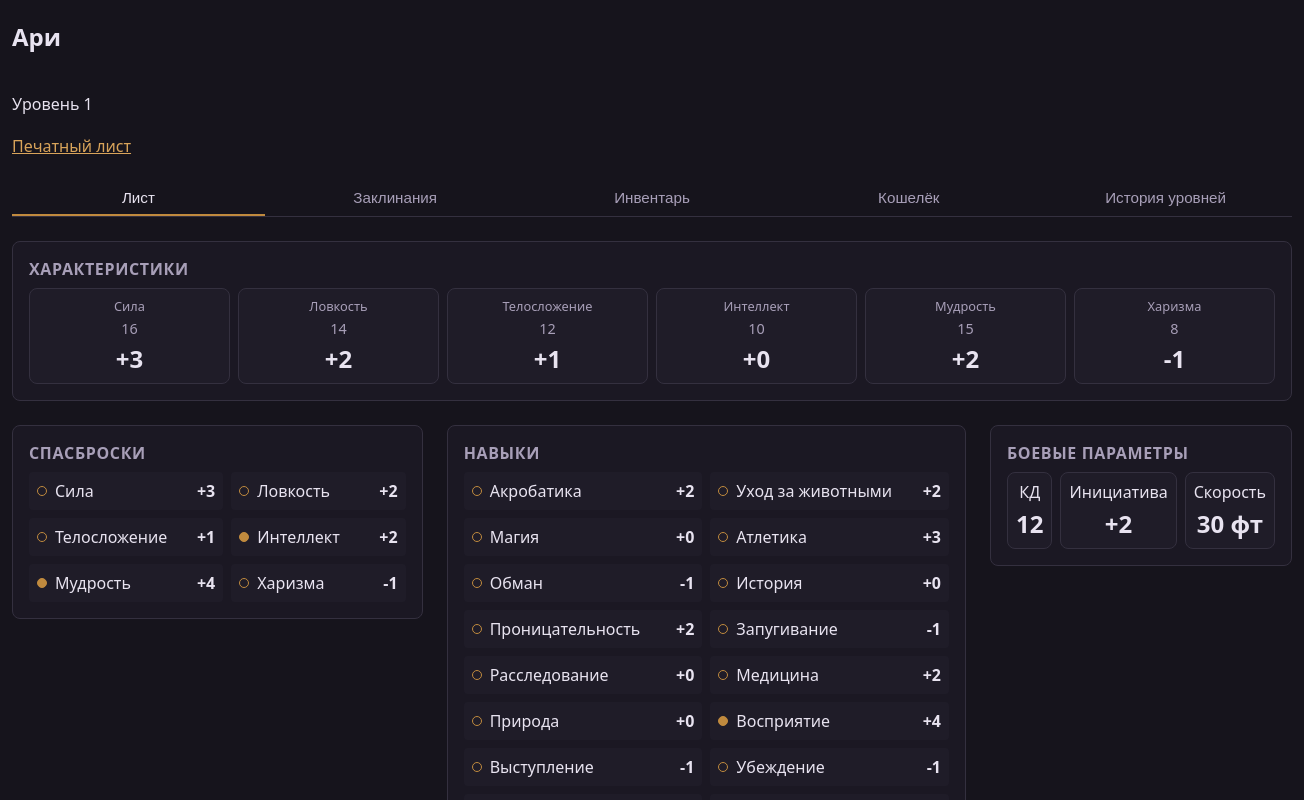
Test: CharacterSheetPage › switches to the inventory tab and shows its entries
Expected: the heading "Ари" is shown, [12, 20, 61, 53]
Click the tab "Инвентарь" at (652, 198), box [526, 181, 778, 216]
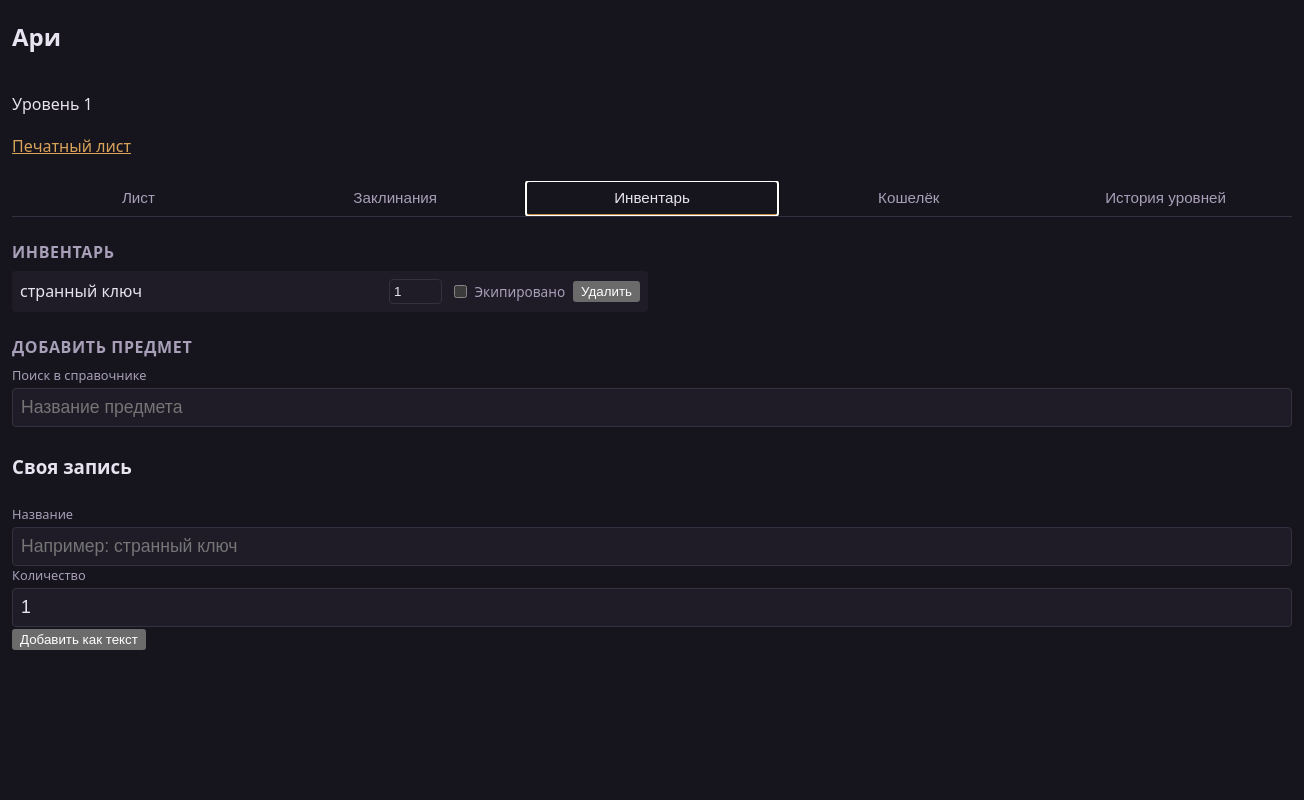
Result: the text "странный ключ" is shown at [20, 280, 142, 302]
